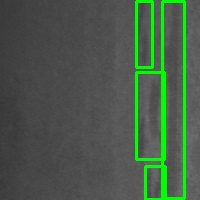inclusion: (162, 1, 184, 198), (136, 73, 164, 159), (136, 1, 152, 67), (145, 166, 165, 199)
